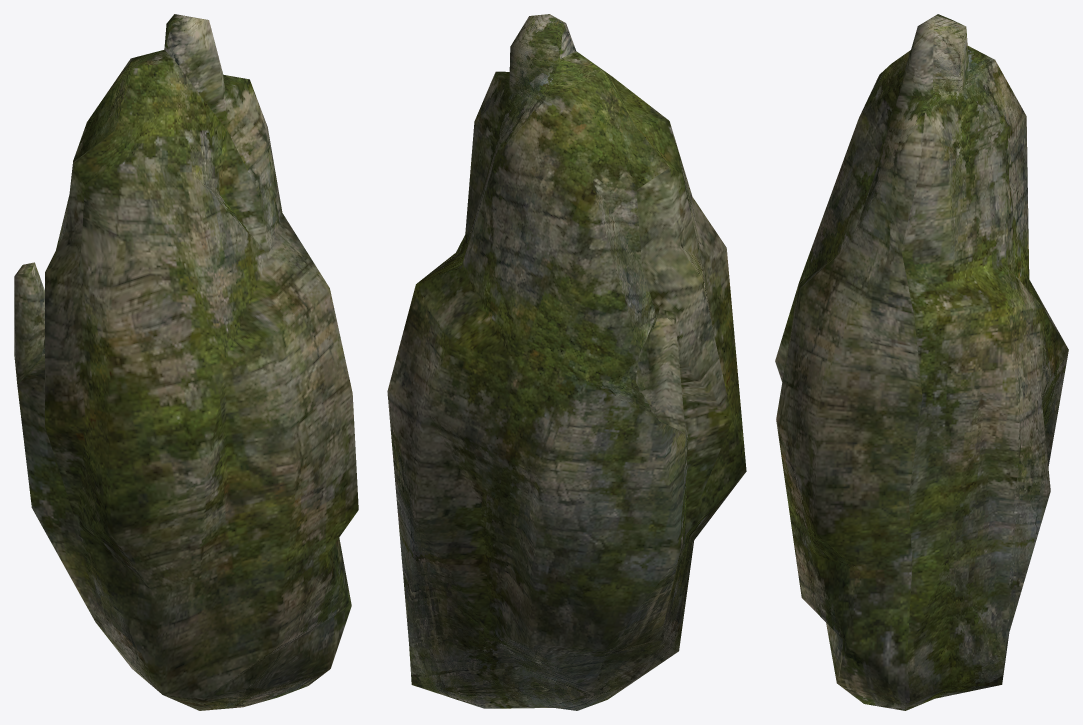
The model's file is Maincity03_Stone_10_LOD2.FBX.
The picture shows the model from 3 angles, left to right: view 1: azimuth 30°, elevation 25°; view 2: azimuth 150°, elevation 25°; view 3: azimuth 270°, elevation 25°; orthographic projection. The views are drawn at different scales.
Parts seen in each view (by area): view 1: hyc_xinshanshi05_LOD2; view 2: hyc_xinshanshi05_LOD2; view 3: hyc_xinshanshi05_LOD2.
Boxes of the visible parts, x1,y1,x2,y2 form: hyc_xinshanshi05_LOD2: (14,14,358,710); hyc_xinshanshi05_LOD2: (387,14,746,710); hyc_xinshanshi05_LOD2: (775,14,1068,710).
Bounding box in the file's own units: 1292 × 2799 × 1132.
